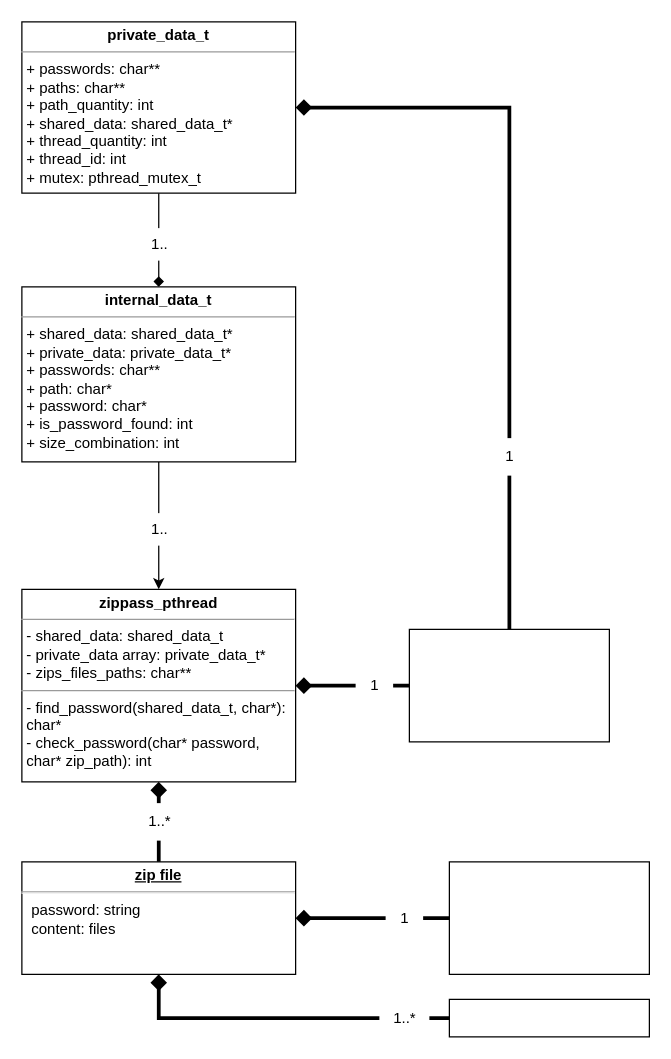
The diagram is 671 pixels wide and 1059 high, and some of its shapes have lost their labels. Here are the shapes that lost their labels. From the top down, the centre of each, then its label:
At [508,685]: "shared_data_t + alphabet: string + max_lenght_password: int + size_alphabet: int".
At [548,917]: "password password: char*".
At [548,1017]: "files".
